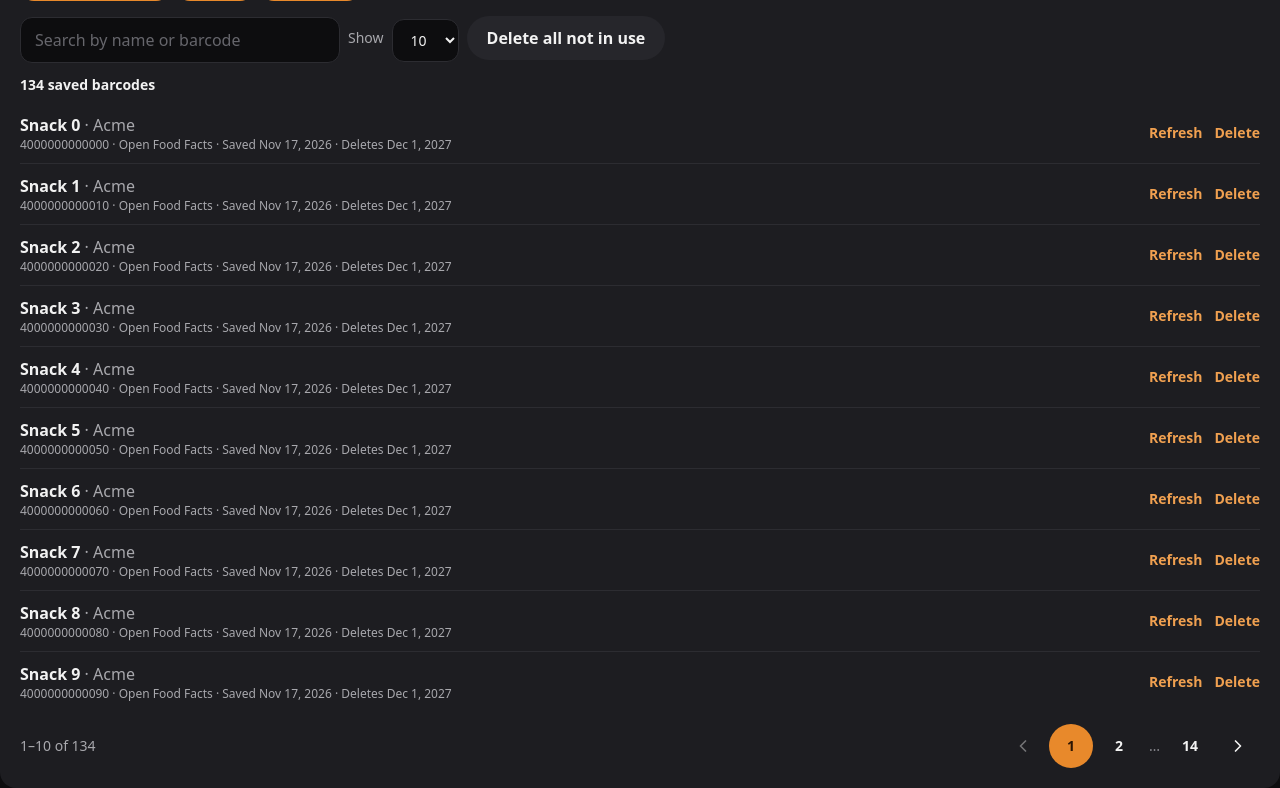
Scenario: Settings › Cached data › searches by name or barcode (combined with the pills), starting again at page 1
(page scrolled)
Expected: the text "134 saved barcodes" is shown, top-left (20, 75), bottom-right (155, 94)
Click the button named "Page 2" at x=1119, y=746, box top-left (1097, 724), bottom-right (1141, 768)
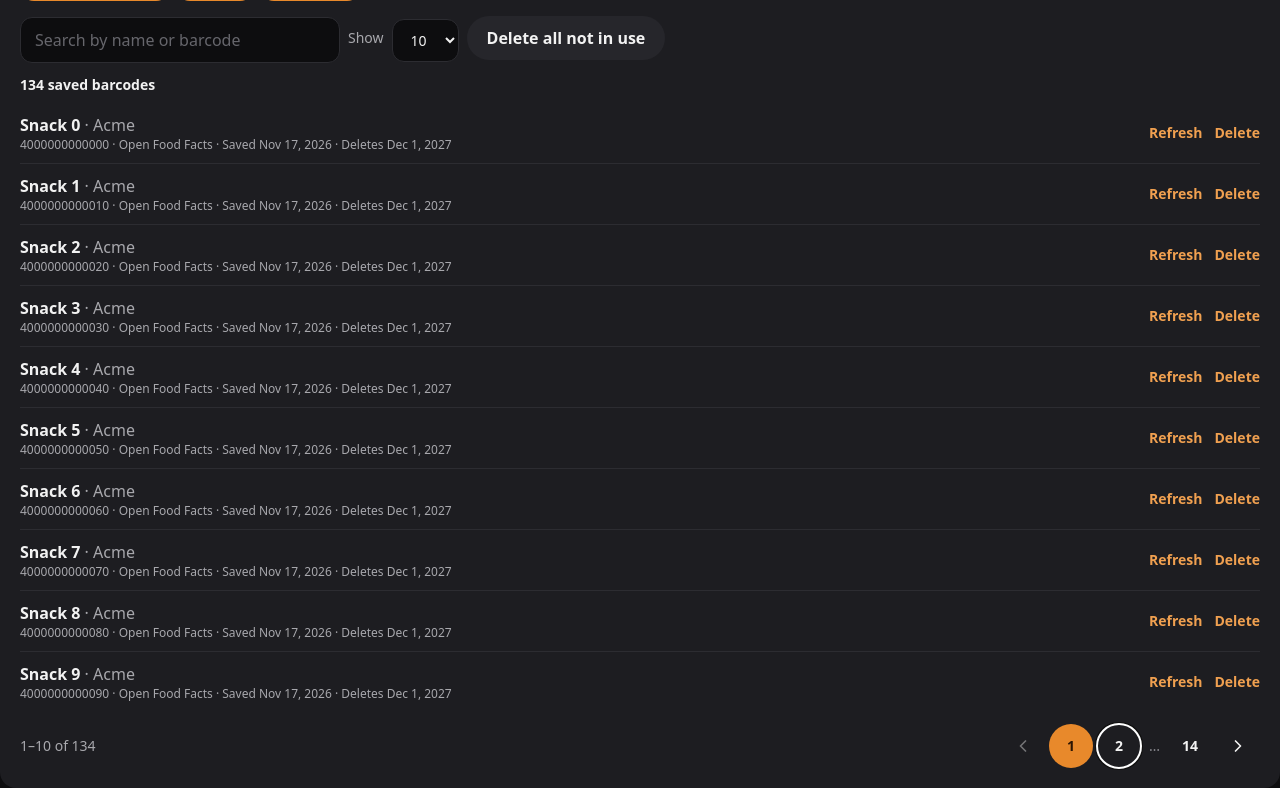
Type "granola" into the search field named "Search saved barcodes" at x=180, y=40, box top-left (20, 17), bottom-right (340, 63)
(page scrolled)
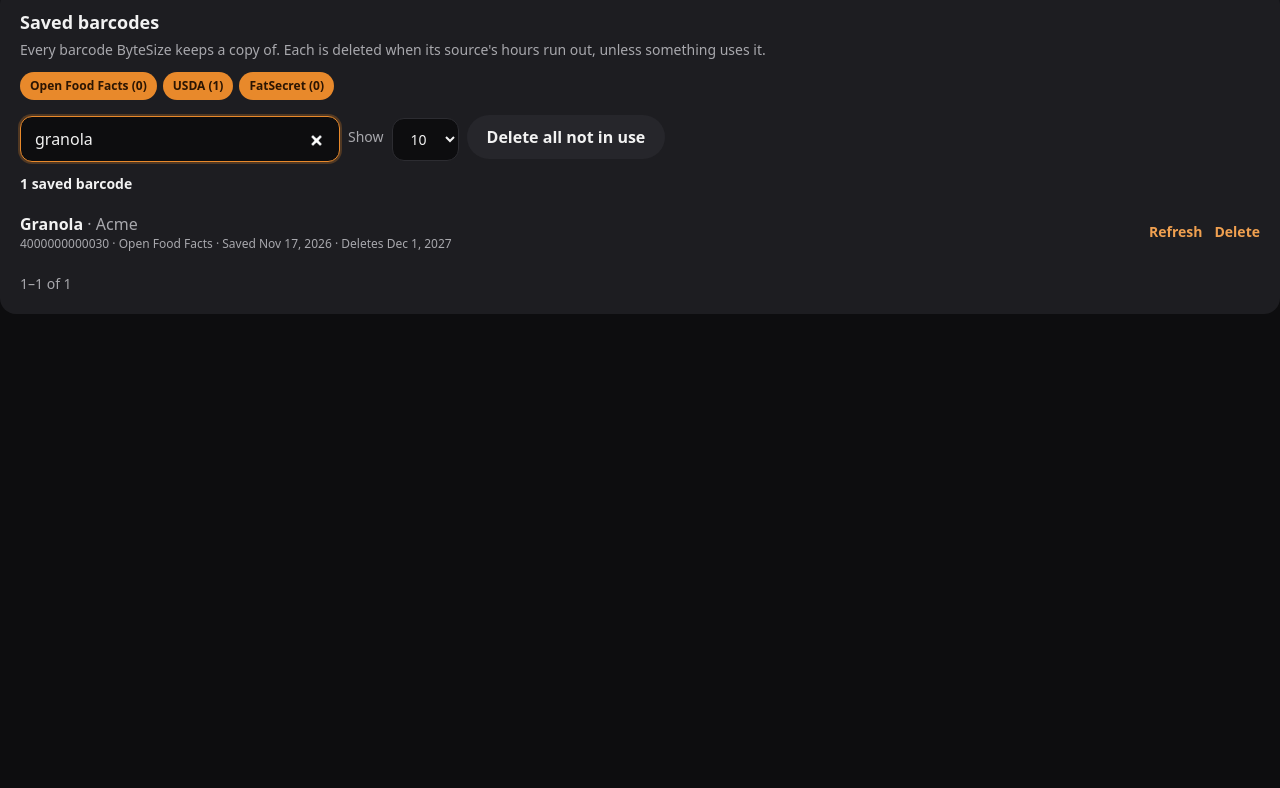
Expected: the text "Granola" is shown, top-left (20, 213), bottom-right (83, 235)
Expected: the text "1 saved barcode" is shown, top-left (20, 174), bottom-right (132, 193)
Expected: the button "USDA (1)" is shown, top-left (163, 72), bottom-right (233, 100)
